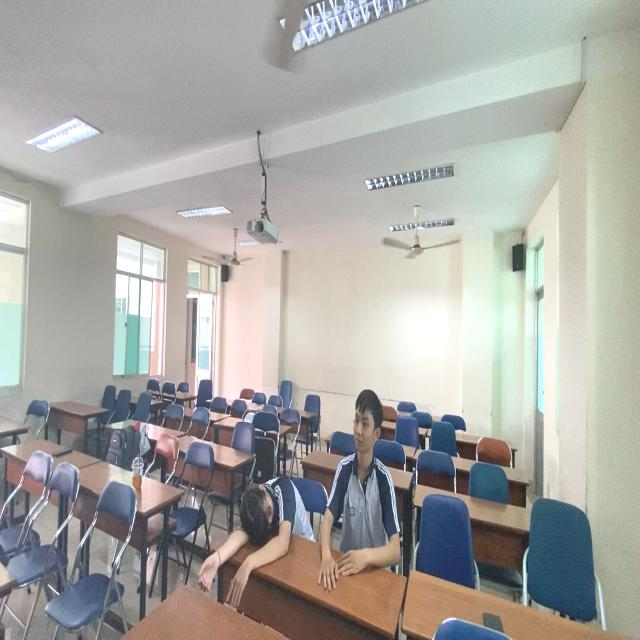sleep: (197, 460, 319, 600)
